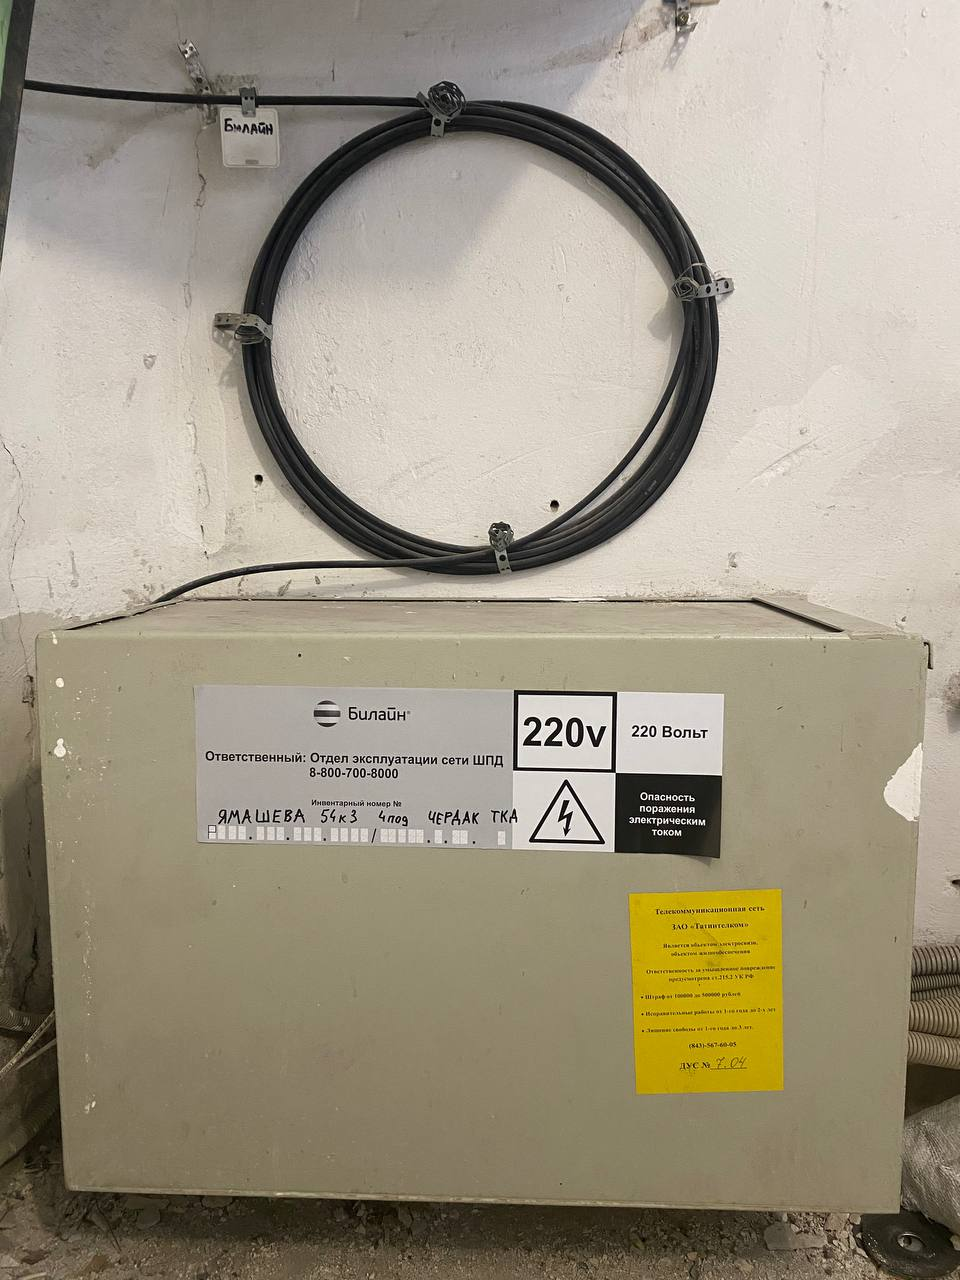sv-5: (31, 583, 932, 1215)
